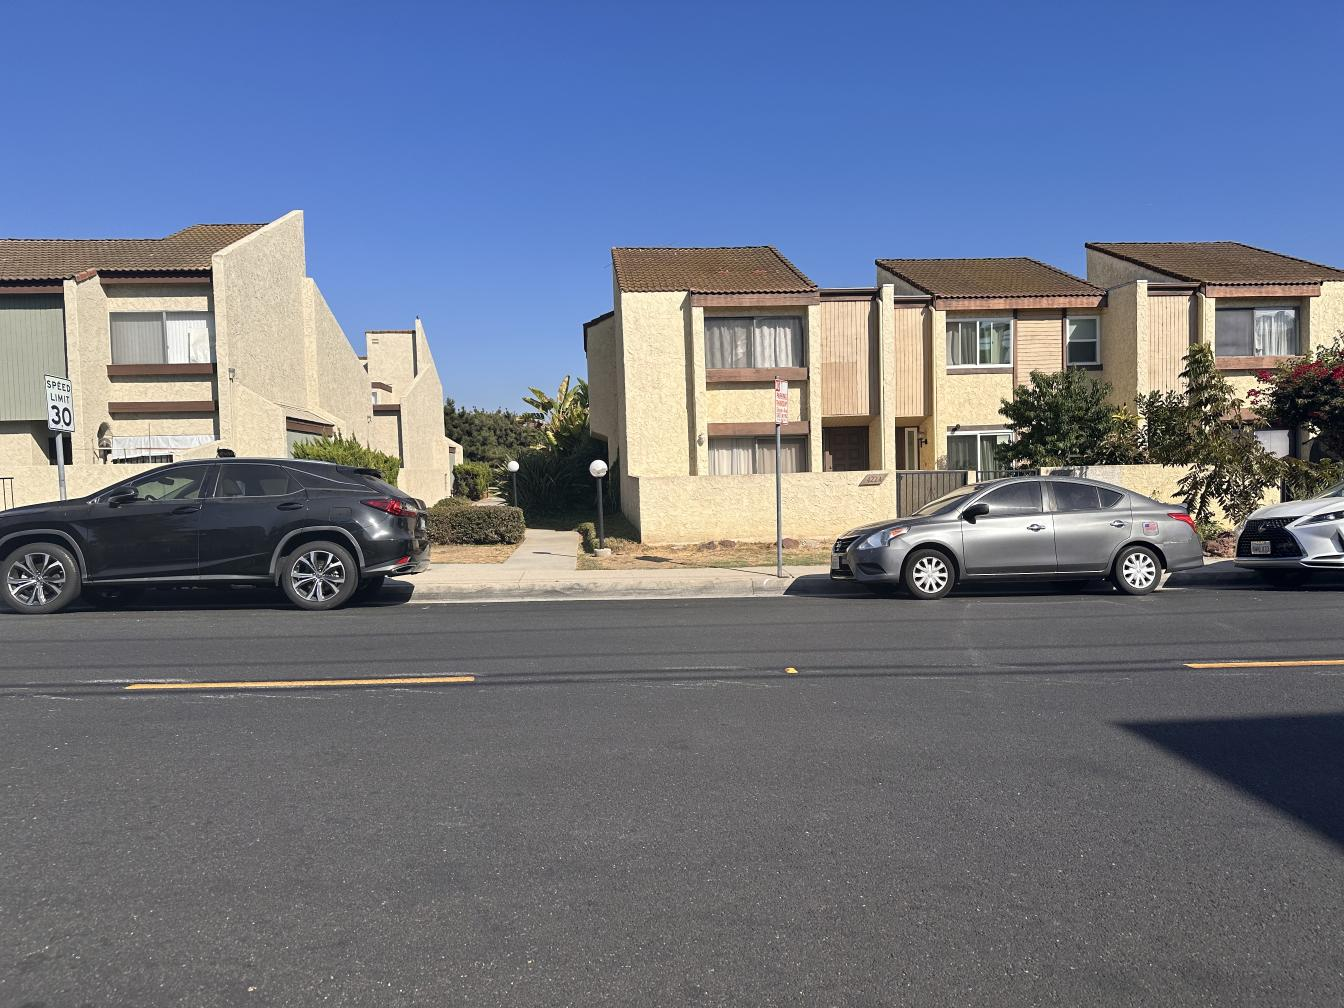curbs-laRr: (412, 575, 822, 599)
